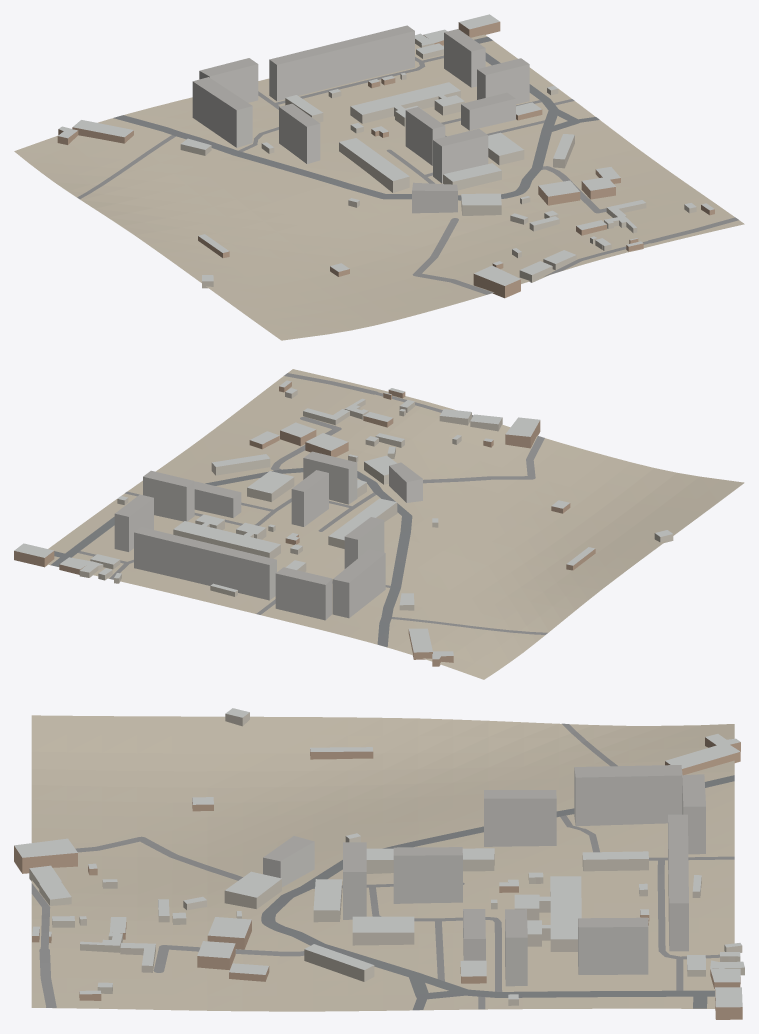
The model's file is bolak_-13_6.glb.
The picture shows the model from 3 angles, top to bottom: view 1: azimuth 30°, elevation 25°; view 2: azimuth 150°, elevation 25°; view 3: azimuth 270°, elevation 25°; orthographic projection. The views are drawn at different scales.
Parts seen in each view (by area): view 1: Yer_Tuproq-col, Devor_Panel-col, Tom_Shifer, Devor_Suvoq-col, Tom_Tekis, Yol_Mahalla-col, Yol_Asfalt-col, Devor_Gisht-col; view 2: Yer_Tuproq-col, Devor_Panel-col, Tom_Shifer, Devor_Suvoq-col, Tom_Tekis, Yol_Mahalla-col, Devor_Gisht-col, Yol_Asfalt-col; view 3: Yer_Tuproq-col, Devor_Panel-col, Tom_Shifer, Tom_Tekis, Devor_Suvoq-col, Yol_Mahalla-col, Yol_Asfalt-col, Devor_Gisht-col.
Part boxes in pixels (x1,y1,x2,y2): Yer_Tuproq-col: [14, 34, 744, 340]; Devor_Panel-col: [192, 31, 529, 213]; Tom_Shifer: [58, 14, 714, 285]; Devor_Suvoq-col: [180, 39, 696, 288]; Tom_Tekis: [193, 25, 529, 190]; Yol_Mahalla-col: [77, 55, 738, 294]; Yol_Asfalt-col: [113, 36, 599, 200]; Devor_Gisht-col: [57, 22, 714, 298]; Yer_Tuproq-col: [47, 369, 744, 679]; Devor_Panel-col: [114, 458, 422, 620]; Tom_Shifer: [14, 380, 672, 659]; Devor_Suvoq-col: [79, 390, 673, 610]; Tom_Tekis: [115, 451, 422, 584]; Yol_Mahalla-col: [78, 373, 547, 634]; Devor_Gisht-col: [14, 382, 595, 666]; Yol_Asfalt-col: [51, 468, 412, 647]; Yer_Tuproq-col: [31, 715, 734, 1011]; Devor_Panel-col: [263, 768, 705, 986]; Tom_Shifer: [14, 708, 744, 1007]; Tom_Tekis: [263, 765, 705, 938]; Devor_Suvoq-col: [29, 712, 744, 1005]; Yol_Mahalla-col: [31, 723, 734, 1009]; Yol_Asfalt-col: [261, 775, 734, 1010]; Devor_Gisht-col: [14, 737, 742, 1019].
Size of what is drawn, in the model's own units: 416 by 41.89 by 416.
